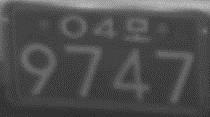0: (59, 13, 88, 40)
4: (111, 46, 150, 100), (92, 15, 119, 40)
7: (64, 42, 102, 98), (156, 48, 193, 104)
9: (19, 42, 57, 96)
모: (122, 15, 151, 43)
